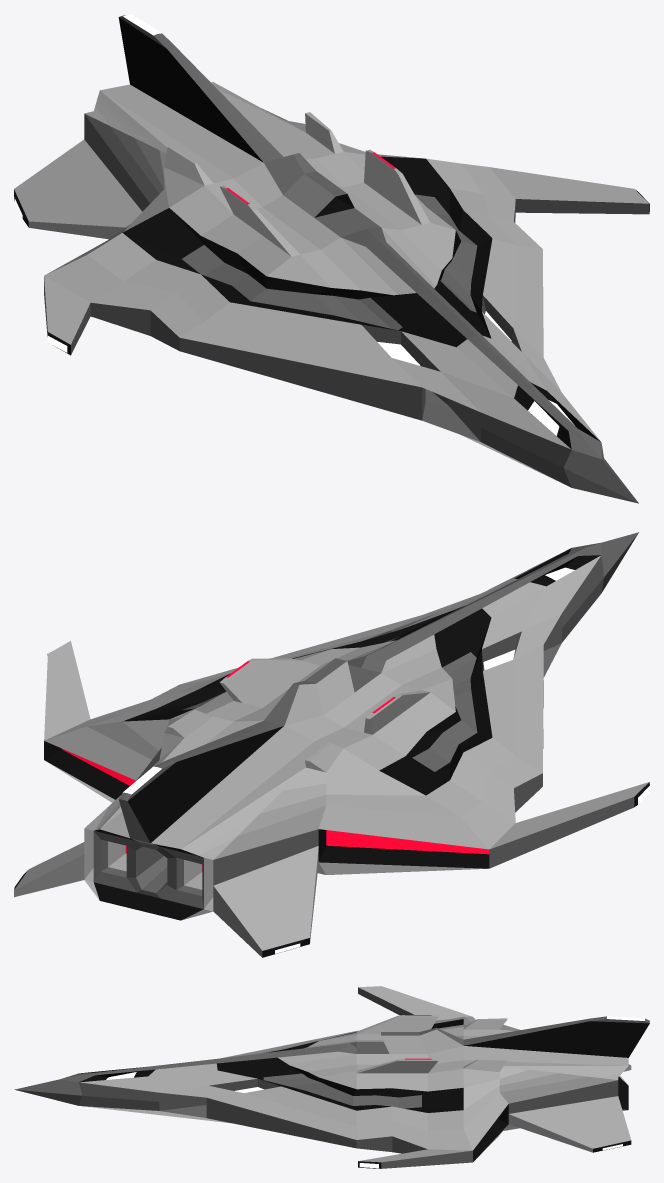
File: drone.glb
3 views of the same model, one above another, from view 1: azimuth 30°, elevation 25°; view 2: azimuth 150°, elevation 25°; view 3: azimuth 270°, elevation 25° (orthographic). The views are drawn at different scales.
Parts seen in each view (by area): view 1: drone; view 2: drone; view 3: drone.
Part boxes in pixels (x1,y1,x2,y2): drone: [14, 14, 649, 503]; drone: [14, 532, 649, 957]; drone: [14, 986, 649, 1168].
Bounding box in the file's own units: 1.2 × 0.3413 × 1.82.
